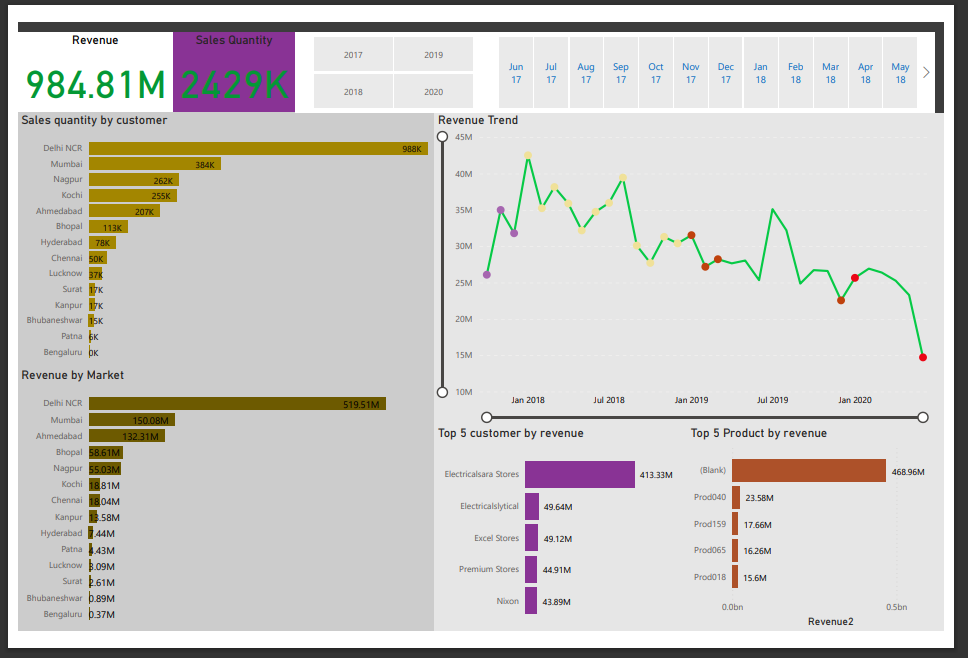

The dashboard page shown, as its layout file describes it:
{"tool":"tableau","page":{"name":"DBD_Revenue analysis","canvas":[1566,968],"ordinal":0},"visuals":[{"type":"worksheet","title":"Year filter","mark":"Automatic","cols":["cy_date"],"box":[19,7,344,46]},{"type":"worksheet","title":"Revenue","mark":"Automatic","box":[941,13,226,135]},{"type":"worksheet","title":"Quantity","mark":"Automatic","box":[1223,21,250,110]},{"type":"worksheet","title":"month_filter","mark":"Automatic","cols":["cy_date"],"box":[7,62,748,69]},{"type":"worksheet","title":"Top5_Products","mark":"Automatic","rows":["product_code (products)"],"cols":["Calculation_332984931575488516"],"box":[663,125,428,398]},{"type":"worksheet","title":"Top5_Customer","mark":"Automatic","rows":["custmer_name"],"cols":["Calculation_332984931575488516"],"box":[1105,136,453,369]},{"type":"worksheet","title":"Revenue_Markets","mark":"Automatic","rows":["markets_name"],"cols":["Calculation_332984931575488516"],"box":[4,158,329,814]},{"type":"worksheet","title":"Quantity_market","mark":"Automatic","rows":["markets_name"],"cols":["sales_qty"],"box":[334,161,324,799]},{"type":"worksheet","title":"Revenue_year","mark":"Automatic","rows":["Calculation_332984931575488516"],"cols":["cy_date","cy_date"],"param":"[federated.1gqq2of0pa1cmj1chzroj15uwdbs].[sum:Calculation_332984931575488516:qk]","box":[1115,533,447,49]},{"type":"worksheet","title":"Revenue_year","mark":"Automatic","rows":["Calculation_332984931575488516"],"cols":["cy_date","cy_date"],"box":[662,537,909,427]}]}

Visuals, with their boxes on the page's 1566x968 design canvas (x1, y1, x2, y2). These are canvas units, not pixel positions in the 968x658 screenshot, which may show the page scaled, cropped or inside an application window:
"Year filter" worksheet: 19/7/363/53
"Revenue" worksheet: 941/13/1167/148
"Quantity" worksheet: 1223/21/1473/131
"month_filter" worksheet: 7/62/755/131
"Top5_Products" worksheet: 663/125/1091/523
"Top5_Customer" worksheet: 1105/136/1558/505
"Revenue_Markets" worksheet: 4/158/333/972
"Quantity_market" worksheet: 334/161/658/960
"Revenue_year" worksheet: 1115/533/1562/582
"Revenue_year" worksheet: 662/537/1571/964
